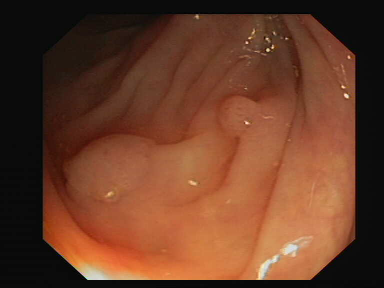polyp: (49, 121, 175, 218), (211, 88, 271, 136)
